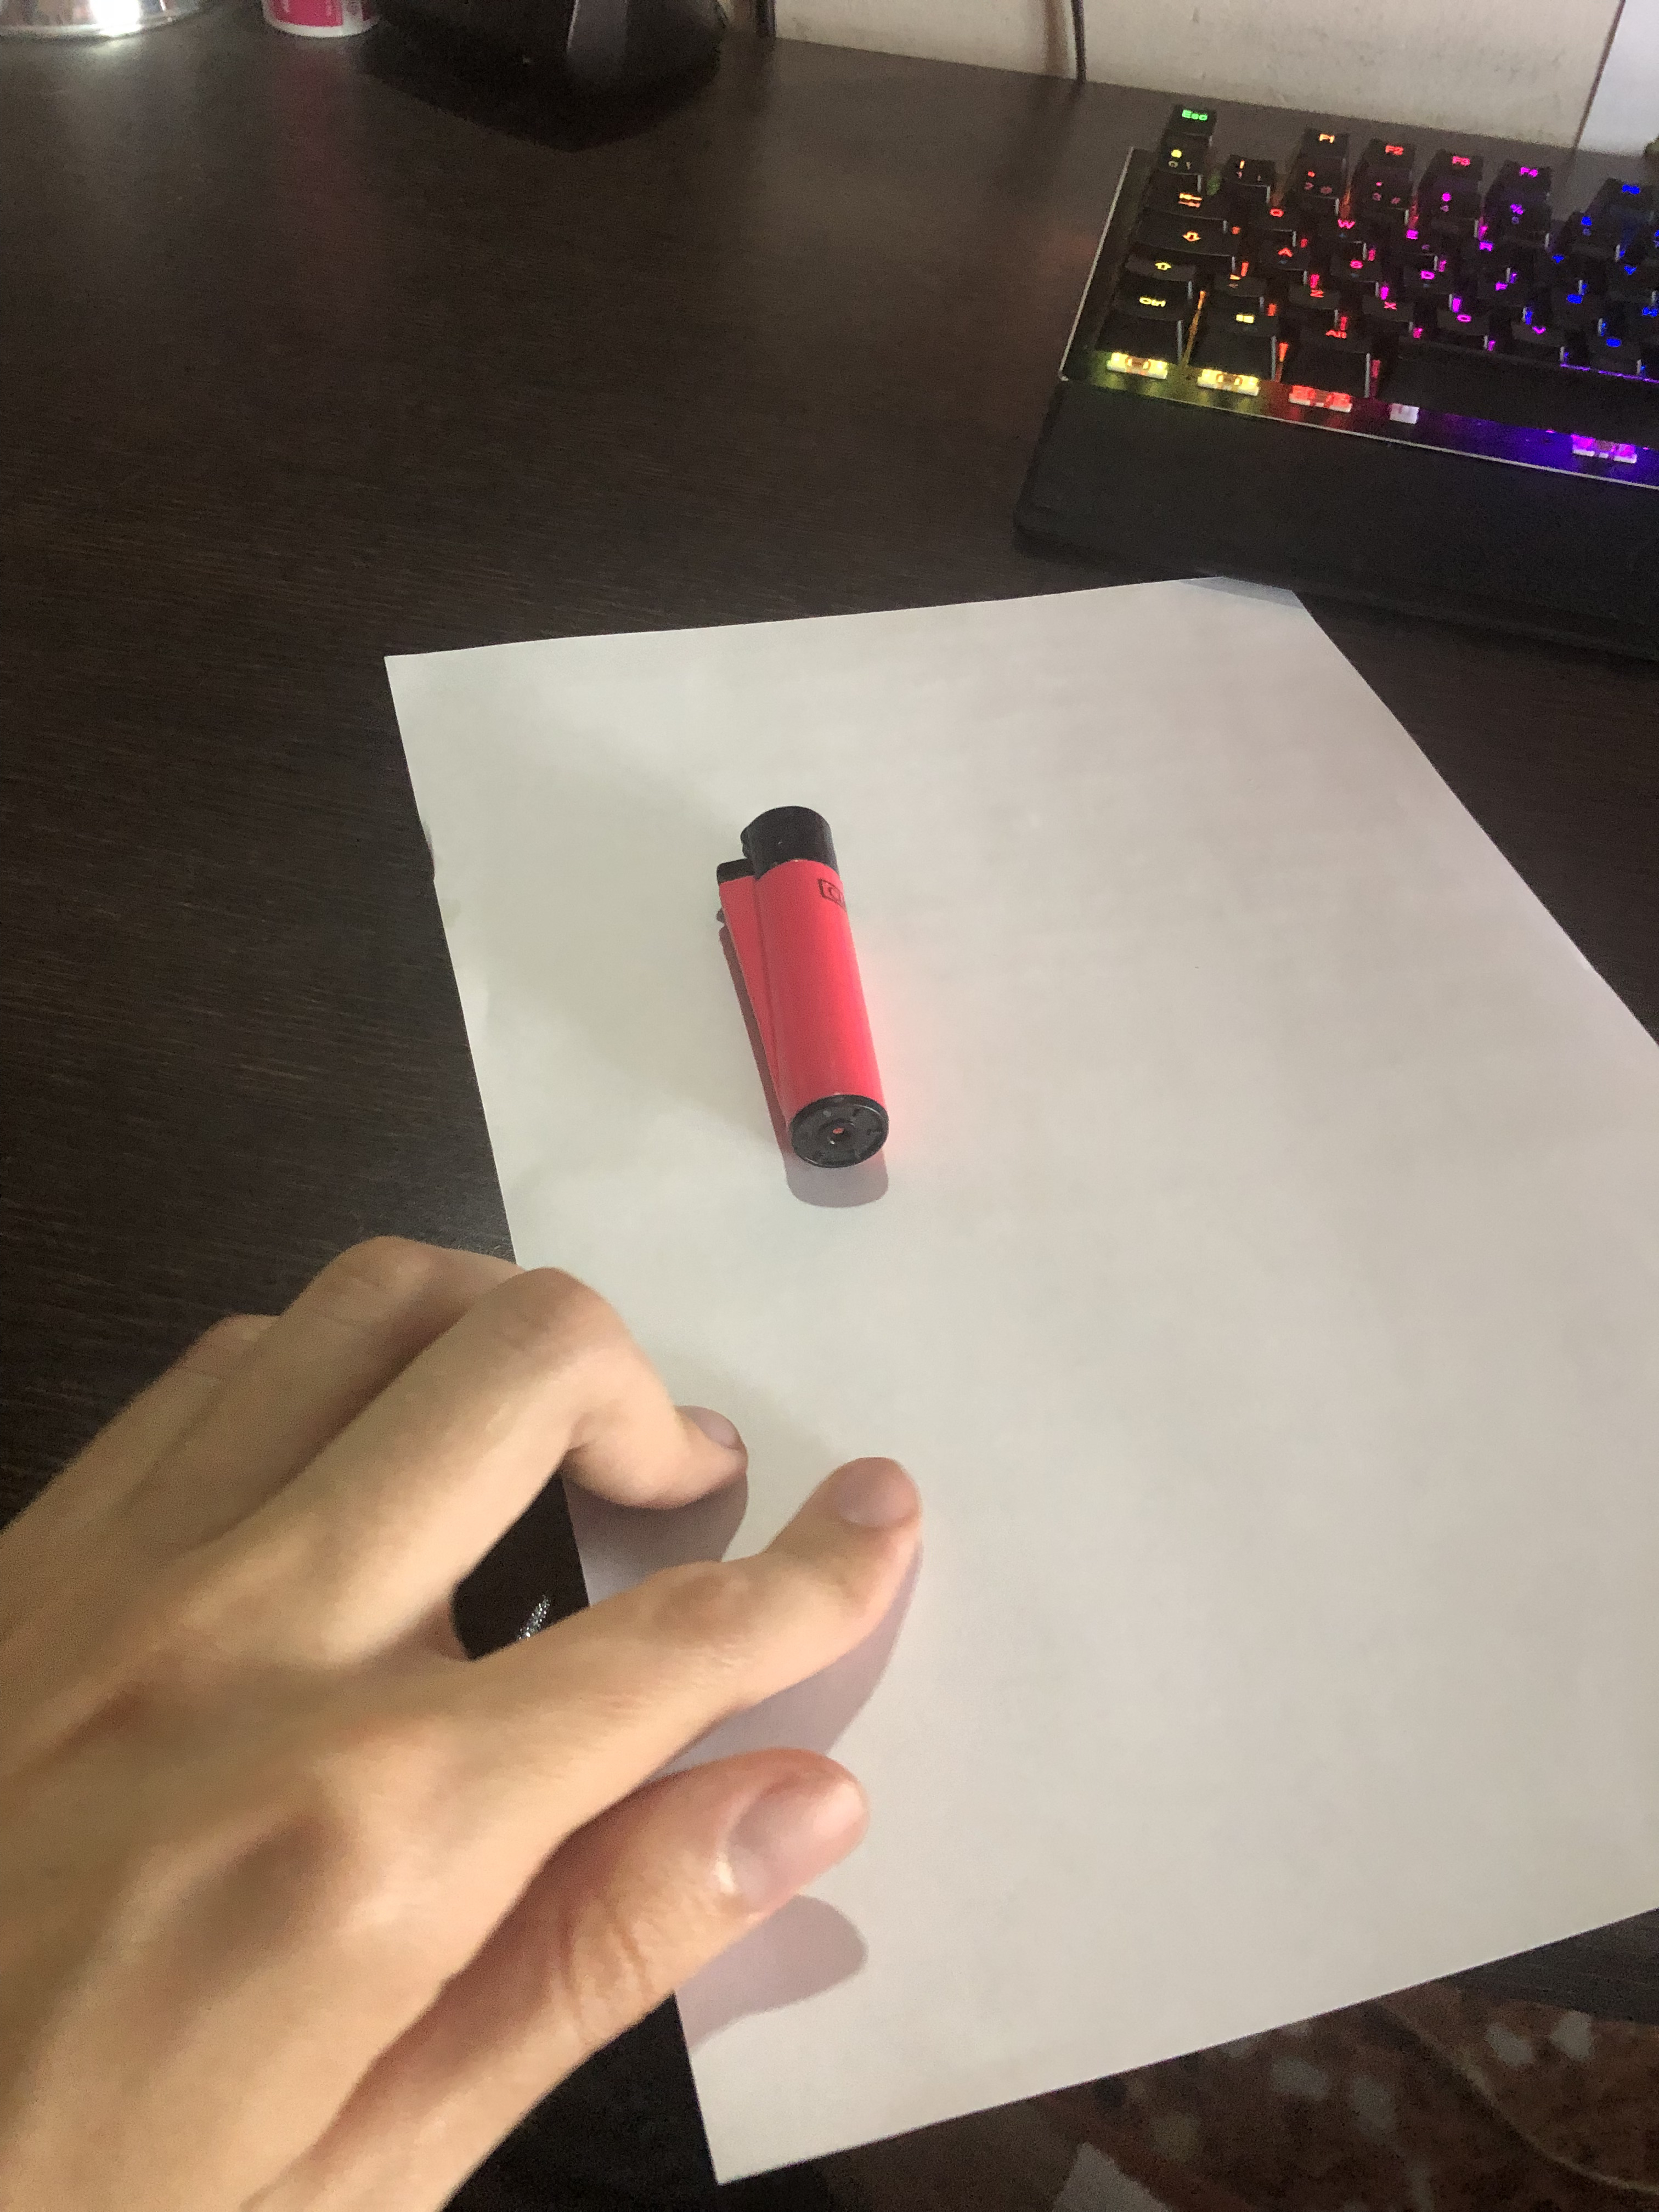Mechero: (671, 792, 932, 1191)
